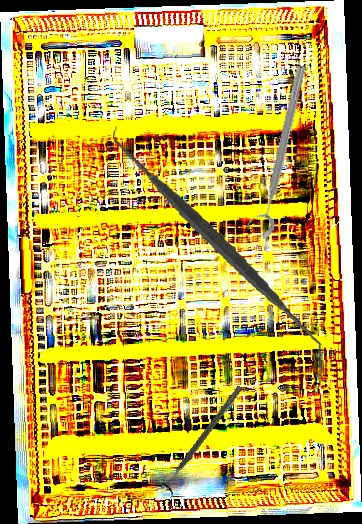Fixation Ring: (243, 61, 312, 241), (157, 381, 249, 497)
Spatula Surgical: (94, 125, 342, 362)
